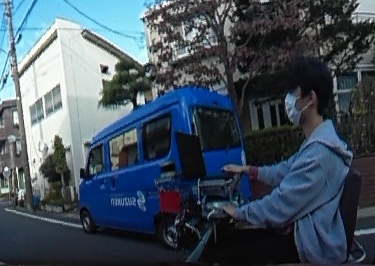person: (206, 57, 345, 266)
